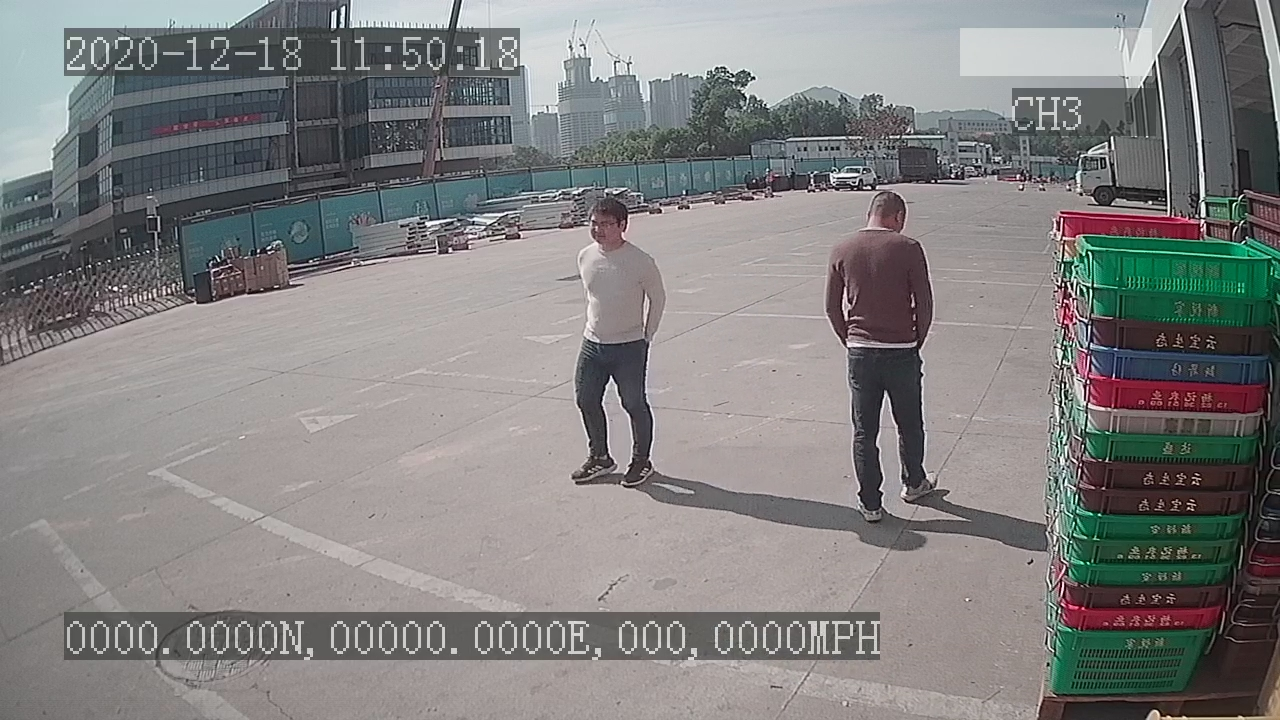person: (822, 186, 943, 527), (565, 199, 674, 492)
